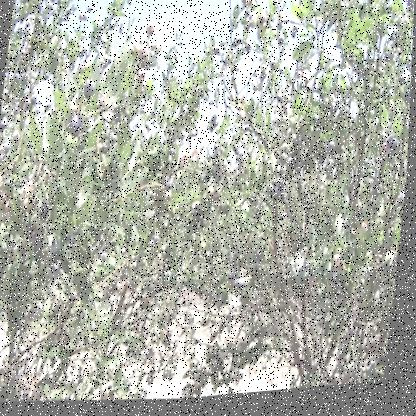intermediate: (134, 24, 166, 64), (179, 152, 202, 174)
mature: (276, 162, 294, 201), (386, 141, 403, 174), (69, 115, 86, 140), (84, 81, 99, 101), (167, 180, 177, 193)
young: (25, 188, 40, 215), (257, 14, 270, 44), (32, 215, 49, 235), (334, 260, 345, 277)
